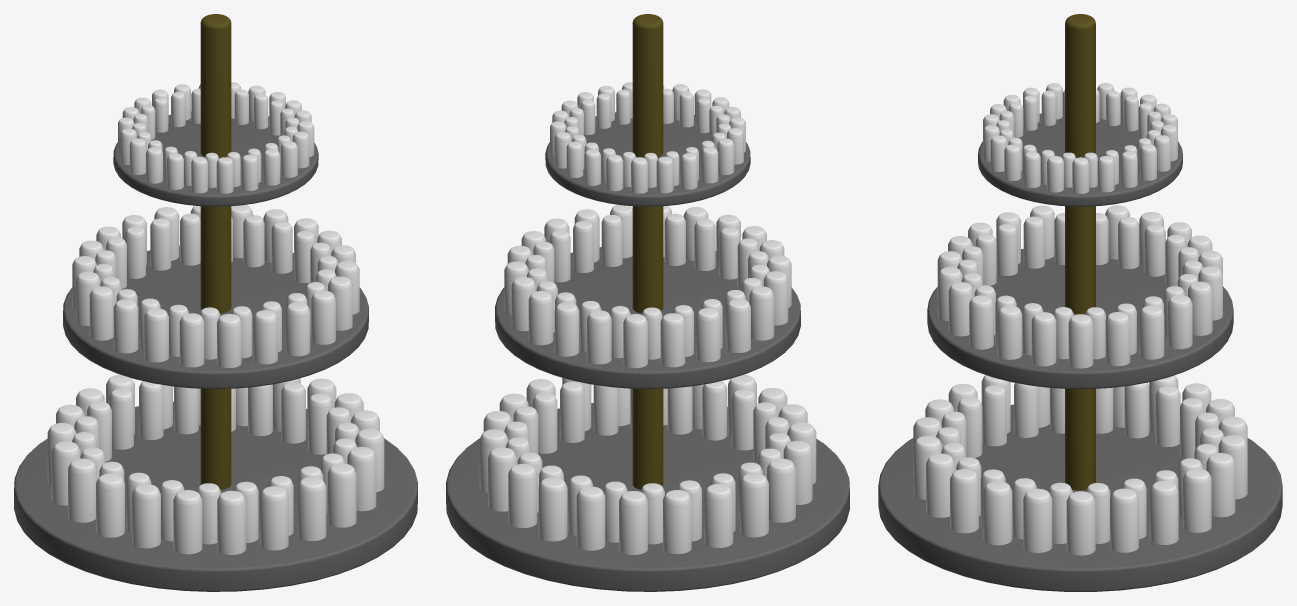
File: Torta Espositore.fbx
The picture shows the model from 3 angles, left to right: view 1: azimuth 30°, elevation 25°; view 2: azimuth 150°, elevation 25°; view 3: azimuth 270°, elevation 25°; orthographic projection.
Visible parts, largest first — view 1: Cylinder.001, Cylinder.005, Cylinder.007, Cylinder.004, Cylinder.002, Cylinder.006, Cylinder, Cylinder.009, Cylinder.003, Cylinder.008; view 2: Cylinder.001, Cylinder.005, Cylinder.007, Cylinder.004, Cylinder.002, Cylinder.006, Cylinder, Cylinder.009, Cylinder.003, Cylinder.008; view 3: Cylinder.001, Cylinder.005, Cylinder.007, Cylinder.004, Cylinder.002, Cylinder.006, Cylinder, Cylinder.009, Cylinder.003, Cylinder.008.
Part boxes in pixels (bbox=[...]): Cylinder.001: bbox=[14, 401, 417, 591]; Cylinder.005: bbox=[47, 375, 384, 554]; Cylinder.007: bbox=[72, 204, 359, 367]; Cylinder.004: bbox=[72, 381, 359, 544]; Cylinder.002: bbox=[63, 245, 368, 388]; Cylinder.006: bbox=[93, 213, 338, 359]; Cylinder: bbox=[200, 14, 231, 490]; Cylinder.009: bbox=[118, 82, 314, 193]; Cylinder.003: bbox=[113, 111, 318, 206]; Cylinder.008: bbox=[132, 88, 299, 187]; Cylinder.001: bbox=[446, 403, 849, 591]; Cylinder.005: bbox=[479, 374, 816, 554]; Cylinder.007: bbox=[504, 204, 791, 368]; Cylinder.004: bbox=[504, 381, 791, 544]; Cylinder.002: bbox=[495, 247, 800, 388]; Cylinder.006: bbox=[525, 213, 770, 359]; Cylinder: bbox=[632, 14, 663, 489]; Cylinder.009: bbox=[550, 82, 745, 193]; Cylinder.003: bbox=[545, 112, 750, 206]; Cylinder.008: bbox=[564, 88, 731, 187]; Cylinder.001: bbox=[878, 404, 1282, 591]; Cylinder.005: bbox=[913, 375, 1247, 555]; Cylinder.007: bbox=[937, 205, 1222, 368]; Cylinder.004: bbox=[936, 382, 1224, 543]; Cylinder.002: bbox=[927, 249, 1233, 388]; Cylinder.006: bbox=[957, 213, 1203, 359]; Cylinder: bbox=[1065, 14, 1095, 490]; Cylinder.009: bbox=[983, 83, 1177, 193]; Cylinder.003: bbox=[978, 113, 1182, 206]; Cylinder.008: bbox=[996, 89, 1164, 187].
Size of the model in its own units: 110 by 147 by 110.
